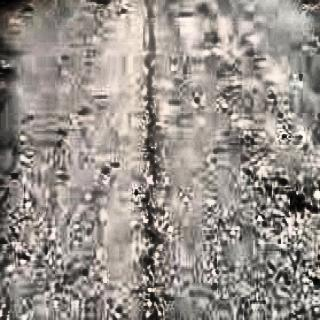crack: (142, 4, 170, 310)
